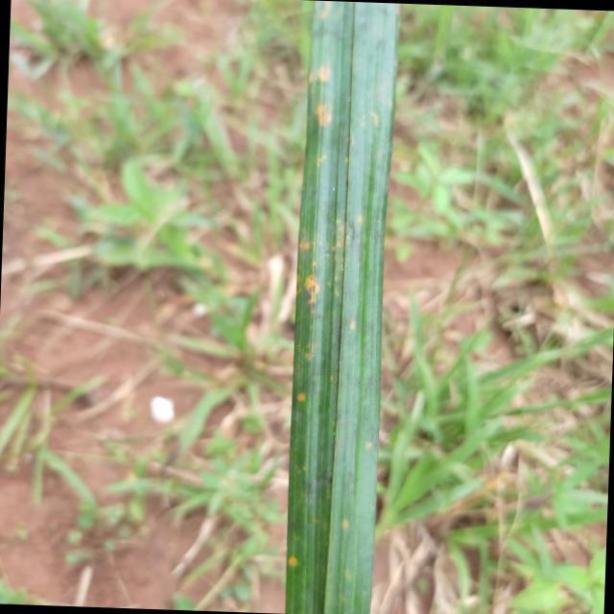Kalium: (284, 5, 397, 614)
